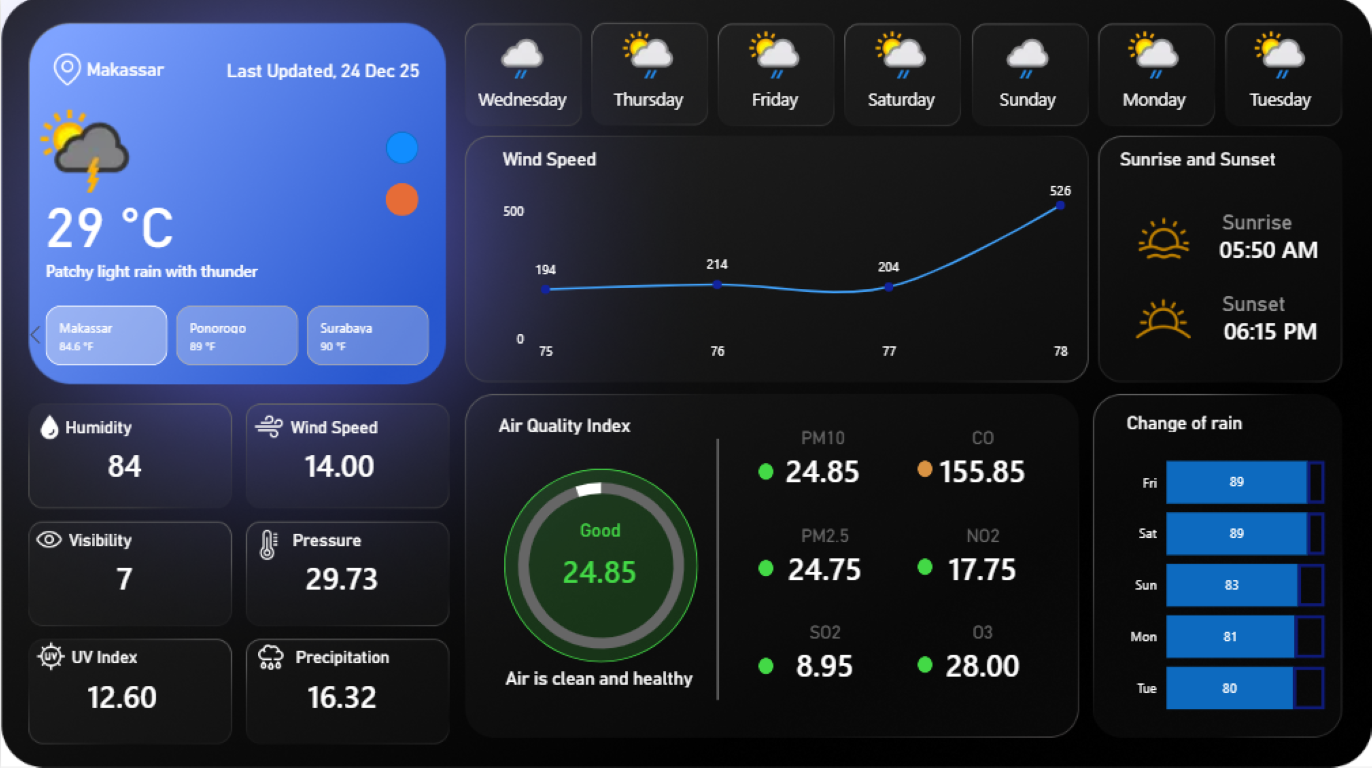

Layout of this report page (visuals, bound fields, positions):
{"tool":"powerbi","page":{"name":"Blue","canvas":[1280,720],"ordinal":1},"visuals":[{"type":"advancedSlicerVisual","fields":{"Values":["Locations.location.name"],"Label":["Measure.Cur_Temp_C"]},"box":[16.1,282.4,410.9,66.9],"z":0},{"type":"card","fields":{"Values":["Measure.Temp_C"]},"box":[14.7,168.6,172.6,77.6],"z":1000},{"type":"cardVisual","fields":{"Rows":["Current.current.condition.text"]},"box":[41.5,214.1,360,69.6],"z":2000},{"type":"cardVisual","fields":{"Rows":["Current.current.condition.text"]},"box":[80.2,56.2,152.6,37.5],"z":3000},{"type":"cardVisual","fields":{"Data":["Min(Current.current.condition.icon)"]},"box":[25.4,89.7,107.1,99],"z":4000},{"type":"image","box":[47.1,40,29.9,53.1],"z":5000},{"type":"cardVisual","fields":{"Data":["Min(Current.current.condition.icon)"]},"box":[28.1,491.2,33.5,28.1],"z":6000},{"type":"cardVisual","fields":{"Rows":["Current.current.condition.text"]},"box":[201.5,56.6,189.3,36.5],"z":7000},{"type":"cardVisual","title":"Visibility","fields":{"Rows":["Current.current.condition.text"]},"box":[46.8,496.5,74.9,18.7],"z":8000},{"type":"cardVisual","fields":{"Data":["Min(Current.current.condition.icon)"]},"box":[30.8,388.1,30.8,24.1],"z":9000},{"type":"cardVisual","fields":{"Data":["Min(Current.current.condition.icon)"]},"box":[231.5,385.4,38.8,28.1],"z":10000},{"type":"cardVisual","fields":{"Data":["Min(Current.current.condition.icon)"]},"box":[32.1,600.9,29.4,28.1],"z":11000},{"type":"cardVisual","fields":{"Data":["Min(Current.current.condition.icon)"]},"box":[236.9,598.2,29.4,34.8],"z":12000},{"type":"cardVisual","fields":{"Data":["Min(Current.current.condition.icon)"]},"box":[231.5,496.5,38.8,28.1],"z":13000},{"type":"cardVisual","title":"Humidity","fields":{"Rows":["Current.current.condition.text"]},"box":[46.8,390.8,74.9,18.7],"z":14000},{"type":"cardVisual","title":"UV Index","fields":{"Rows":["Current.current.condition.text"]},"box":[46.8,606.2,80.3,18.7],"z":15000},{"type":"cardVisual","title":"Precipitation","fields":{"Rows":["Current.current.condition.text"]},"box":[270.3,606.2,92.3,18.7],"z":16000},{"type":"cardVisual","title":"Pressure","fields":{"Rows":["Current.current.condition.text"]},"box":[261,496.5,74.9,18.7],"z":17000},{"type":"cardVisual","title":"Wind Speed","fields":{"Rows":["Current.current.condition.text"]},"box":[270.3,390.8,99,18.7],"z":18000},{"type":"cardVisual","fields":{"Data":["Sum(Current.current.humidity)"]},"box":[28.1,400.1,175.3,68.3],"z":19000},{"type":"cardVisual","fields":{"Data":["Sum(Current.current.wind_kph)"]},"box":[228.8,400.1,175.3,68.3],"z":20000},{"type":"cardVisual","fields":{"Data":["Sum(Current.current.pressure_in)"]},"box":[231.5,505.9,175.3,68.3],"z":21000},{"type":"cardVisual","fields":{"Data":["Sum(Forcast_Days.forecast.forecastday.day.totalprecip_in)"]},"box":[231.5,615.6,175.3,68.3],"z":22000},{"type":"cardVisual","fields":{"Data":["Sum(Current.current.vis_km)"]},"box":[28.1,505.9,175.3,68.3],"z":23000},{"type":"cardVisual","fields":{"Data":["Sum(Current.current.uv)"]},"box":[25.4,615.6,175.3,68.3],"z":24000},{"type":"advancedSlicerVisual","fields":{"Values":["Forcast_Days.Day_Name"]},"box":[426.7,10,834.8,112.7],"z":25000},{"type":"lineChart","title":"Wind Speed ","fields":{"Category":["Forcast_Days.forecast.forecastday.day.avghumidity"],"Y":["Sum(Forcast_Days.forecast.forecastday.day.maxwind_mph)"]},"box":[463.8,139.8,540.8,208.3],"z":26000},{"type":"cardVisual","title":"Sunrise and Sunset","fields":{"Rows":["Current.current.condition.text"]},"box":[1045.2,139.2,199.4,29.4],"z":27000},{"type":"cardVisual","fields":{"Data":["Min(Forcast_Days.Sunrise_Date)"]},"box":[1120.2,206.9,128.4,49.9],"z":28000},{"type":"cardVisual","fields":{"Data":["Min(Forcast_Days.Sunset_Date)"]},"box":[1120.2,282.5,131.3,51.4],"z":29000},{"type":"cardVisual","title":"Sunrise","fields":{"Data":["Min(Forcast_Days.Sunrise_Date)"]},"box":[1134.9,198.1,95,33.5],"z":30000},{"type":"cardVisual","title":"Sunset","fields":{"Data":["Min(Forcast_Days.Sunrise_Date)"]},"box":[1134.9,274.3,80.3,33.5],"z":31000},{"type":"image","box":[1051.7,265.4,68.5,68.5],"z":32000},{"type":"image","box":[1051.7,201.2,68.5,47.1],"z":33000},{"type":"barChart","title":"Change of rain","fields":{"Category":["Forcast_Days.DayName"],"Y":["Avg(Forcast_Days.forecast.forecastday.day.daily_chance_of_rain)","Current.left_value_rain"]},"box":[1051.9,385.4,184.7,298.4],"z":34000},{"type":"cardVisual","title":"Air Quality Index","fields":{"Rows":["Current.current.condition.text"]},"box":[464.4,388.1,136.5,29.4],"z":35000},{"type":"cardVisual","title":"CO","fields":{"Data":["Sum(Current.current.air_quality.co)"]},"box":[842.8,400.3,147.5,65],"z":36000},{"type":"cardVisual","title":"NO2","fields":{"Data":["Sum(Current.current.air_quality.no2)"]},"box":[842.8,491.6,147.5,65],"z":37000},{"type":"cardVisual","title":"O3","fields":{"Data":["Sum(Current.current.air_quality.o3)"]},"box":[842.8,581.2,147.5,65],"z":38000},{"type":"cardVisual","title":"PM10","fields":{"Data":["Sum(Current.current.air_quality.pm10)"]},"box":[704.1,400.3,128.2,65],"z":39000},{"type":"cardVisual","title":"PM2.5","fields":{"Data":["Sum(Current.current.air_quality.pm2_5)"]},"box":[695.3,491.6,147.5,65],"z":40000},{"type":"cardVisual","title":"SO2","fields":{"Data":["Sum(Current.current.air_quality.so2)"]},"box":[695.3,581.2,147.5,65],"z":41000},{"type":"shape","box":[707.6,433.7,14,15.8],"z":42000},{"type":"shape","box":[707.6,525,14,15.8],"z":43000},{"type":"shape","box":[707.6,616.3,14,15.8],"z":44000},{"type":"shape","box":[855.4,432,14,15.8],"z":45000},{"type":"shape","box":[855.4,523.3,14,15.8],"z":46000},{"type":"shape","box":[855.4,614.6,14,15.8],"z":47000},{"type":"shape","box":[640.9,410.9,56.2,244.1],"z":48000},{"type":"shape","box":[469.7,439.3,180.9,180.9],"z":49000},{"type":"donutChart","title":"PM10","fields":{"Y":["Measure.Left_Value_PM10","Sum(Current.current.air_quality.pm10)"]},"box":[416.2,433.6,287.7,194.1],"z":50000},{"type":"cardVisual","fields":{"Data":["Sum(Current.current.air_quality.pm10)"]},"box":[488.1,486.4,144,77.3],"z":51000},{"type":"cardVisual","fields":{"Rows":["Current.current.condition.text"]},"box":[463.7,624.8,190,45.6],"z":52000},{"type":"shape","box":[358.8,124.7,30.4,30.4],"z":54000},{"type":"shape","box":[358.8,173.3,30.4,30.4],"z":54001}]}

Visuals, with their boxes in screenshot pixels (x1, y1, x2, y2), scaled from the page's 1280x720 canvas onto the 1372x768 screenshot:
advancedSlicerVisual - Locations.location.name x Measure.Cur_Temp_C: (17, 301, 458, 373)
card - Measure.Temp_C: (16, 180, 201, 263)
cardVisual - Current.current.condition.text: (44, 228, 430, 303)
cardVisual - Current.current.condition.text: (86, 60, 250, 100)
cardVisual - Min(Current.current.condition.icon): (27, 96, 142, 201)
image: (50, 43, 83, 99)
cardVisual - Min(Current.current.condition.icon): (30, 524, 66, 554)
cardVisual - Current.current.condition.text: (216, 60, 419, 99)
"Visibility" cardVisual: (50, 530, 130, 550)
cardVisual - Min(Current.current.condition.icon): (33, 414, 66, 440)
cardVisual - Min(Current.current.condition.icon): (248, 411, 290, 441)
cardVisual - Min(Current.current.condition.icon): (34, 641, 66, 671)
cardVisual - Min(Current.current.condition.icon): (254, 638, 285, 675)
cardVisual - Min(Current.current.condition.icon): (248, 530, 290, 560)
"Humidity" cardVisual: (50, 417, 130, 437)
"UV Index" cardVisual: (50, 647, 136, 667)
"Precipitation" cardVisual: (290, 647, 389, 667)
"Pressure" cardVisual: (280, 530, 360, 550)
"Wind Speed" cardVisual: (290, 417, 396, 437)
cardVisual - Sum(Current.current.humidity): (30, 427, 218, 500)
cardVisual - Sum(Current.current.wind_kph): (245, 427, 433, 500)
cardVisual - Sum(Current.current.pressure_in): (248, 540, 436, 612)
cardVisual - Sum(Forcast_Days.forecast.forecastday.day.totalprecip_in): (248, 657, 436, 729)
cardVisual - Sum(Current.current.vis_km): (30, 540, 218, 612)
cardVisual - Sum(Current.current.uv): (27, 657, 215, 729)
advancedSlicerVisual - Forcast_Days.Day_Name: (457, 11, 1352, 131)
"Wind Speed " lineChart: (497, 149, 1077, 371)
"Sunrise and Sunset" cardVisual: (1120, 148, 1334, 180)
cardVisual - Min(Forcast_Days.Sunrise_Date): (1201, 221, 1338, 274)
cardVisual - Min(Forcast_Days.Sunset_Date): (1201, 301, 1341, 356)
"Sunrise" cardVisual: (1216, 211, 1318, 247)
"Sunset" cardVisual: (1216, 293, 1303, 328)
image: (1127, 283, 1201, 356)
image: (1127, 215, 1201, 265)
"Change of rain" barChart: (1128, 411, 1325, 729)
"Air Quality Index" cardVisual: (498, 414, 644, 445)
"CO" cardVisual: (903, 427, 1061, 496)
"NO2" cardVisual: (903, 524, 1061, 594)
"O3" cardVisual: (903, 620, 1061, 689)
"PM10" cardVisual: (755, 427, 892, 496)
"PM2.5" cardVisual: (745, 524, 903, 594)
"SO2" cardVisual: (745, 620, 903, 689)
shape: (758, 463, 773, 479)
shape: (758, 560, 773, 577)
shape: (758, 657, 773, 674)
shape: (917, 461, 932, 478)
shape: (917, 558, 932, 575)
shape: (917, 656, 932, 672)
shape: (687, 438, 747, 699)
shape: (503, 469, 697, 662)
"PM10" donutChart: (446, 463, 754, 670)
cardVisual - Sum(Current.current.air_quality.pm10): (523, 519, 678, 601)
cardVisual - Current.current.condition.text: (497, 666, 701, 715)
shape: (385, 133, 417, 165)
shape: (385, 185, 417, 217)
